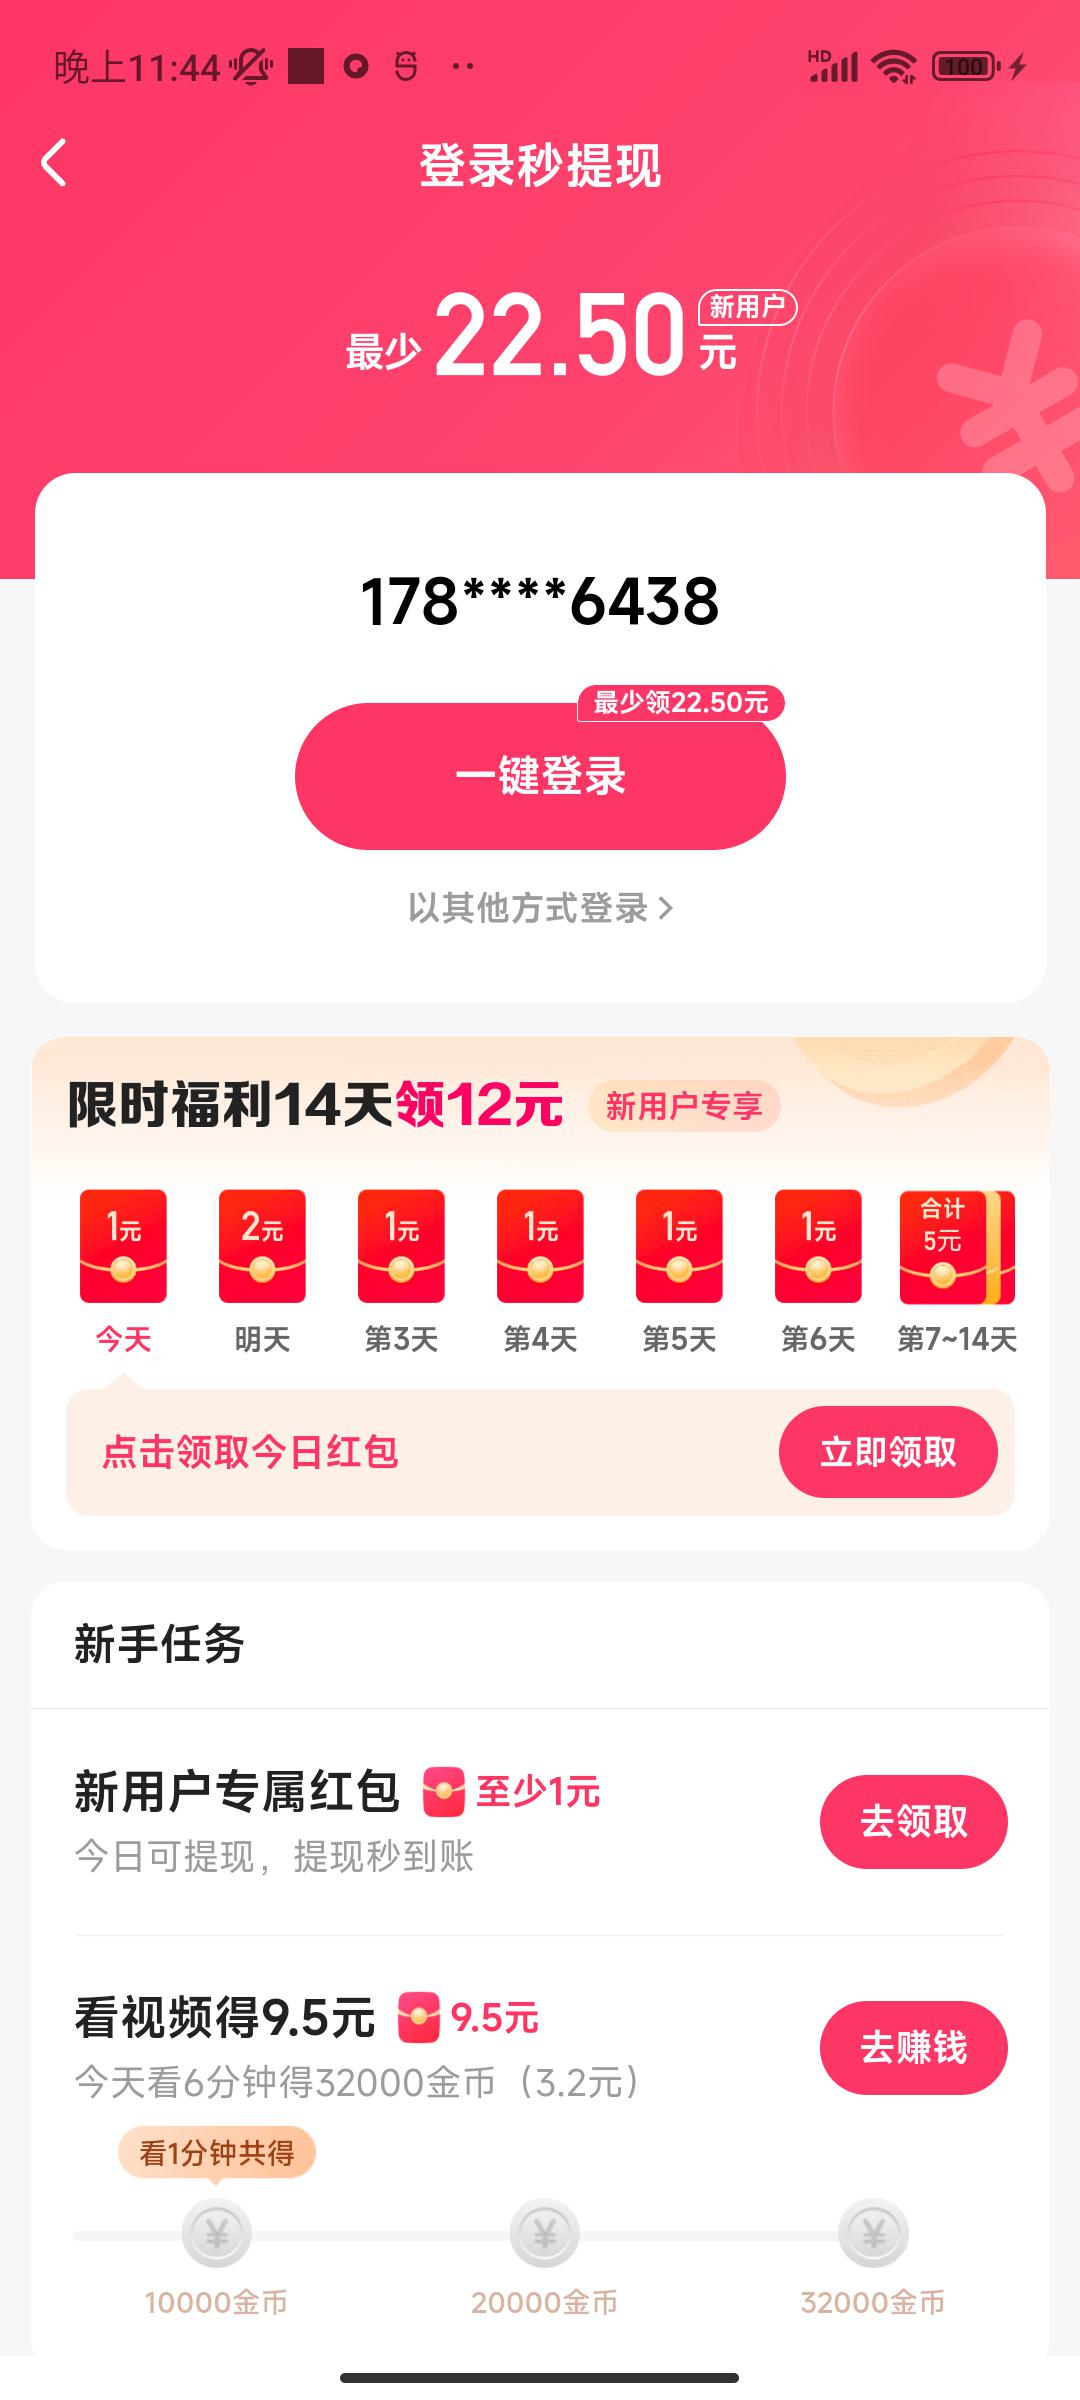ui_group: (28, 476, 1046, 998), (26, 1041, 1049, 1541), (46, 1945, 1023, 2345), (46, 1743, 1013, 1921)
